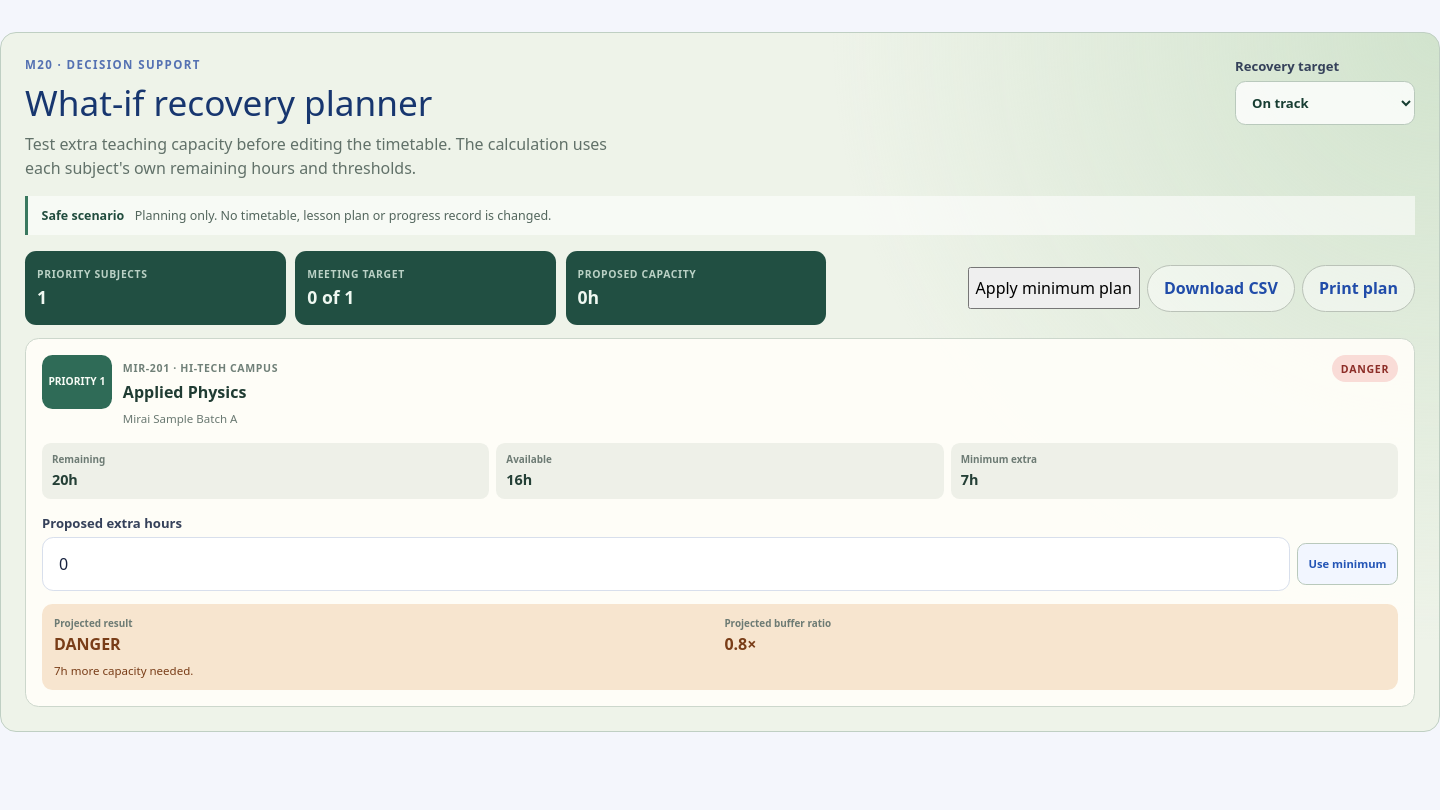
Scenario: M20 what-if recovery planner › recalculates for a tight-or-better target
This screenshot has width=1440, height=810.
Select "Tight or better" in the dropdown labelled "Recovery target": coordinates (1325, 103) [1235, 81, 1415, 125]
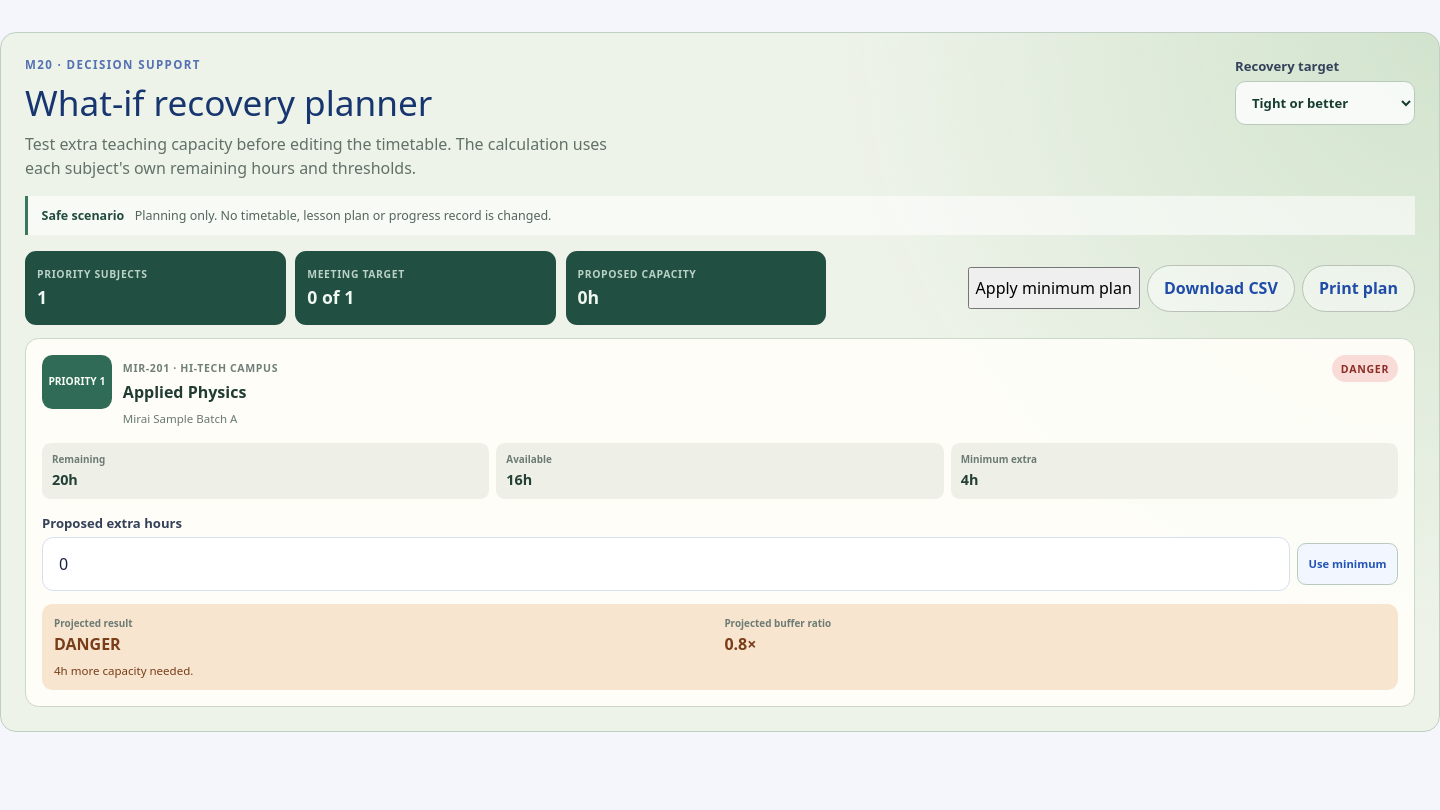
Check: the text "4h" is shown, box [961, 470, 978, 490]
Click the button "Use minimum": coordinates (1348, 564) [1297, 543, 1398, 585]
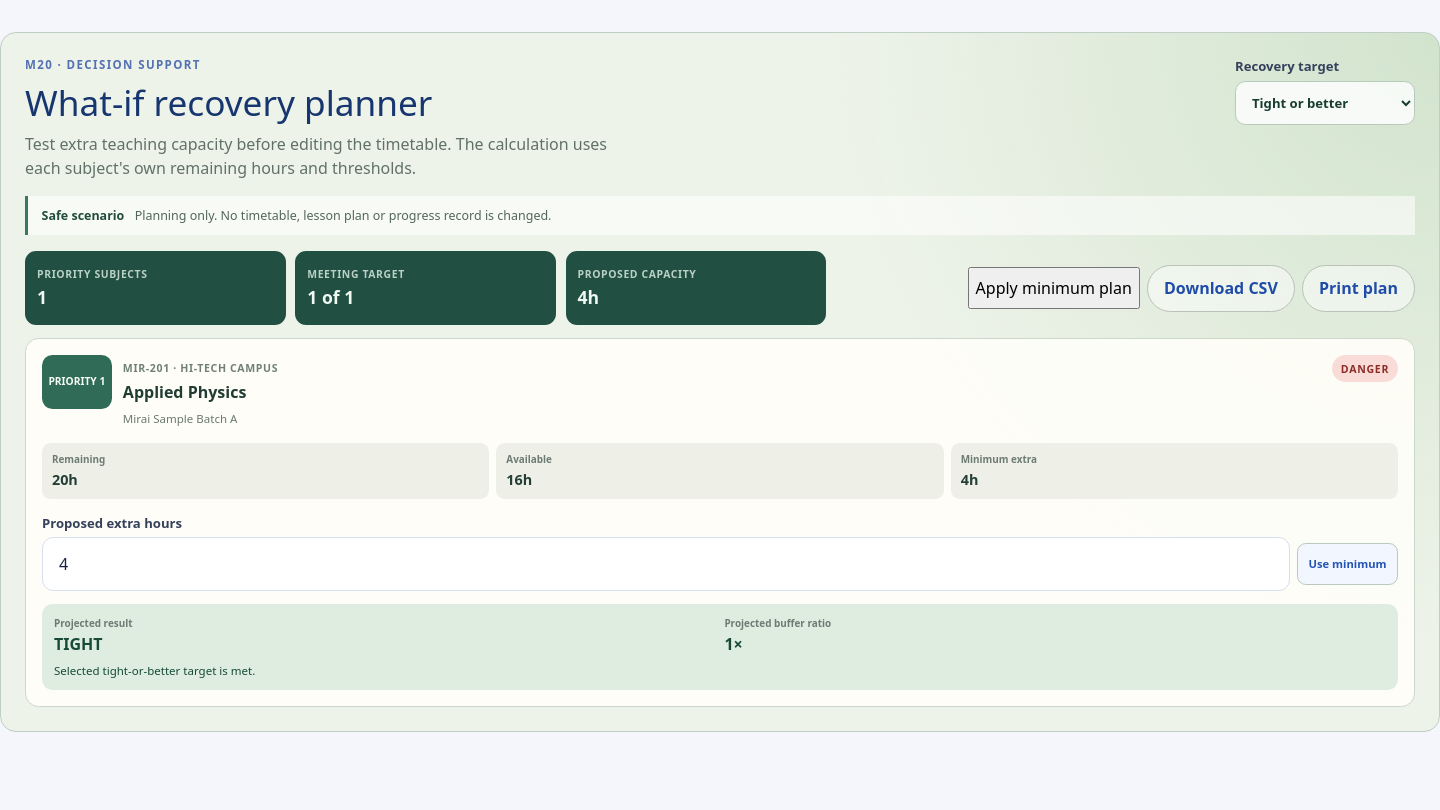
Check: the text "Selected tight-or-better target is met." is shown, box [54, 663, 255, 678]
